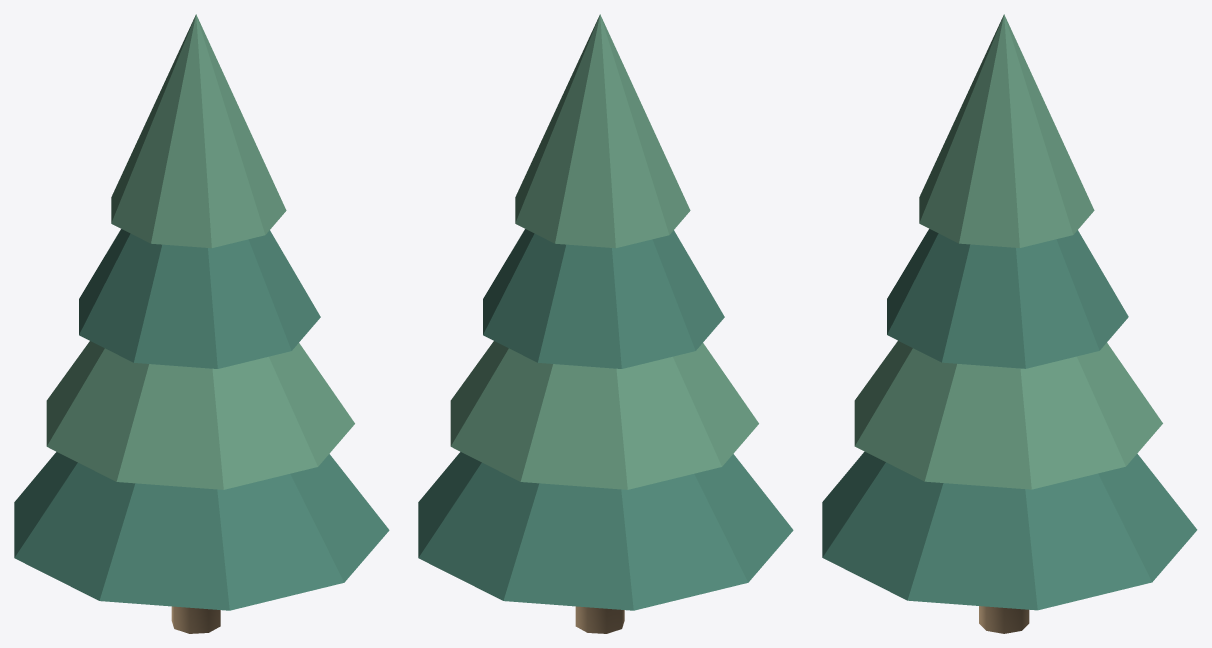
File: pine.glb
The picture shows the model from 3 angles, left to right: view 1: azimuth 30°, elevation 25°; view 2: azimuth 150°, elevation 25°; view 3: azimuth 270°, elevation 25°; orthographic projection.
Visible parts, largest first — view 1: PineNeedlesParts, PineTipsParts, PalmBarkParts.001; view 2: PineNeedlesParts, PineTipsParts, PalmBarkParts.001; view 3: PineNeedlesParts, PineTipsParts, PalmBarkParts.001.
Part boxes in pixels (<box>): PineNeedlesParts: <box>14,229,389,610</box>; PineTipsParts: <box>46,14,354,489</box>; PalmBarkParts.001: <box>171,606,220,633</box>; PineNeedlesParts: <box>418,229,793,610</box>; PineTipsParts: <box>450,14,758,489</box>; PalmBarkParts.001: <box>575,606,624,633</box>; PineNeedlesParts: <box>822,229,1197,610</box>; PineTipsParts: <box>854,14,1162,489</box>; PalmBarkParts.001: <box>979,606,1029,633</box>.
Bounding box in the file's own units: 2.11 × 3.72 × 2.08.
